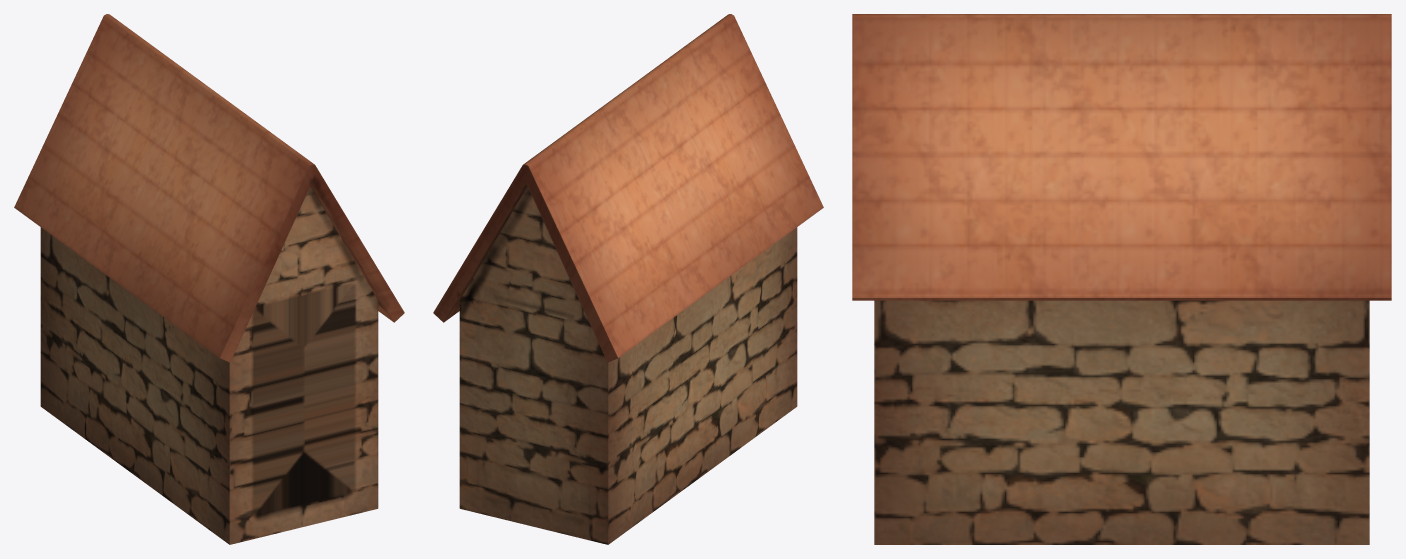
File: sb_obj_outdoor001_Castle01_hut01_col.fbx
3 renders of one model, left to right at view 1: azimuth 30°, elevation 25°; view 2: azimuth 150°, elevation 25°; view 3: azimuth 270°, elevation 25°, orthographic. The views are drawn at different scales.
Parts seen in each view (by area): view 1: sb_obj_outdoor001_Castle01_hut01_col; view 2: sb_obj_outdoor001_Castle01_hut01_col; view 3: sb_obj_outdoor001_Castle01_hut01_col.
Boxes of the visible parts, x1,y1,x2,y2 form: sb_obj_outdoor001_Castle01_hut01_col: (14, 14, 404, 544); sb_obj_outdoor001_Castle01_hut01_col: (433, 14, 823, 544); sb_obj_outdoor001_Castle01_hut01_col: (852, 14, 1391, 544).
Bounding box in the file's own units: 1.09 × 2.07 × 2.09.
